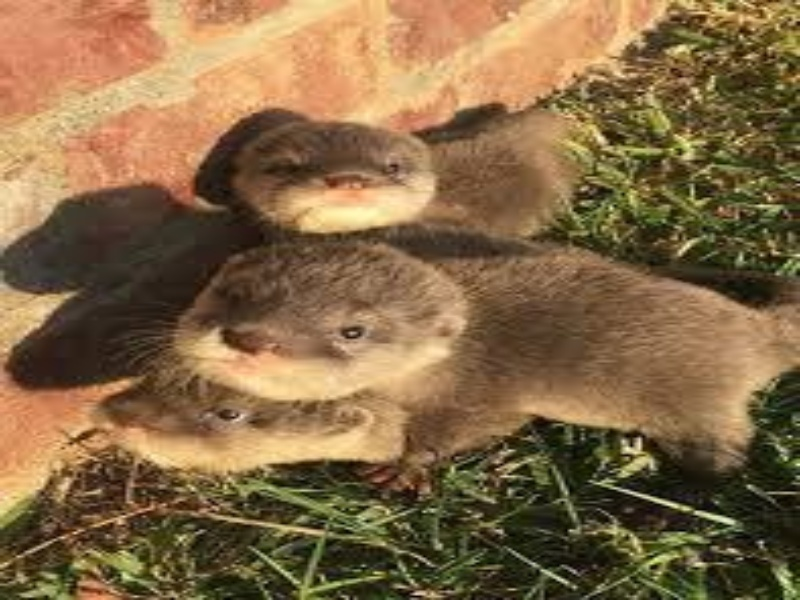minkish: (168, 239, 798, 443), (222, 111, 590, 241), (88, 346, 408, 493)
